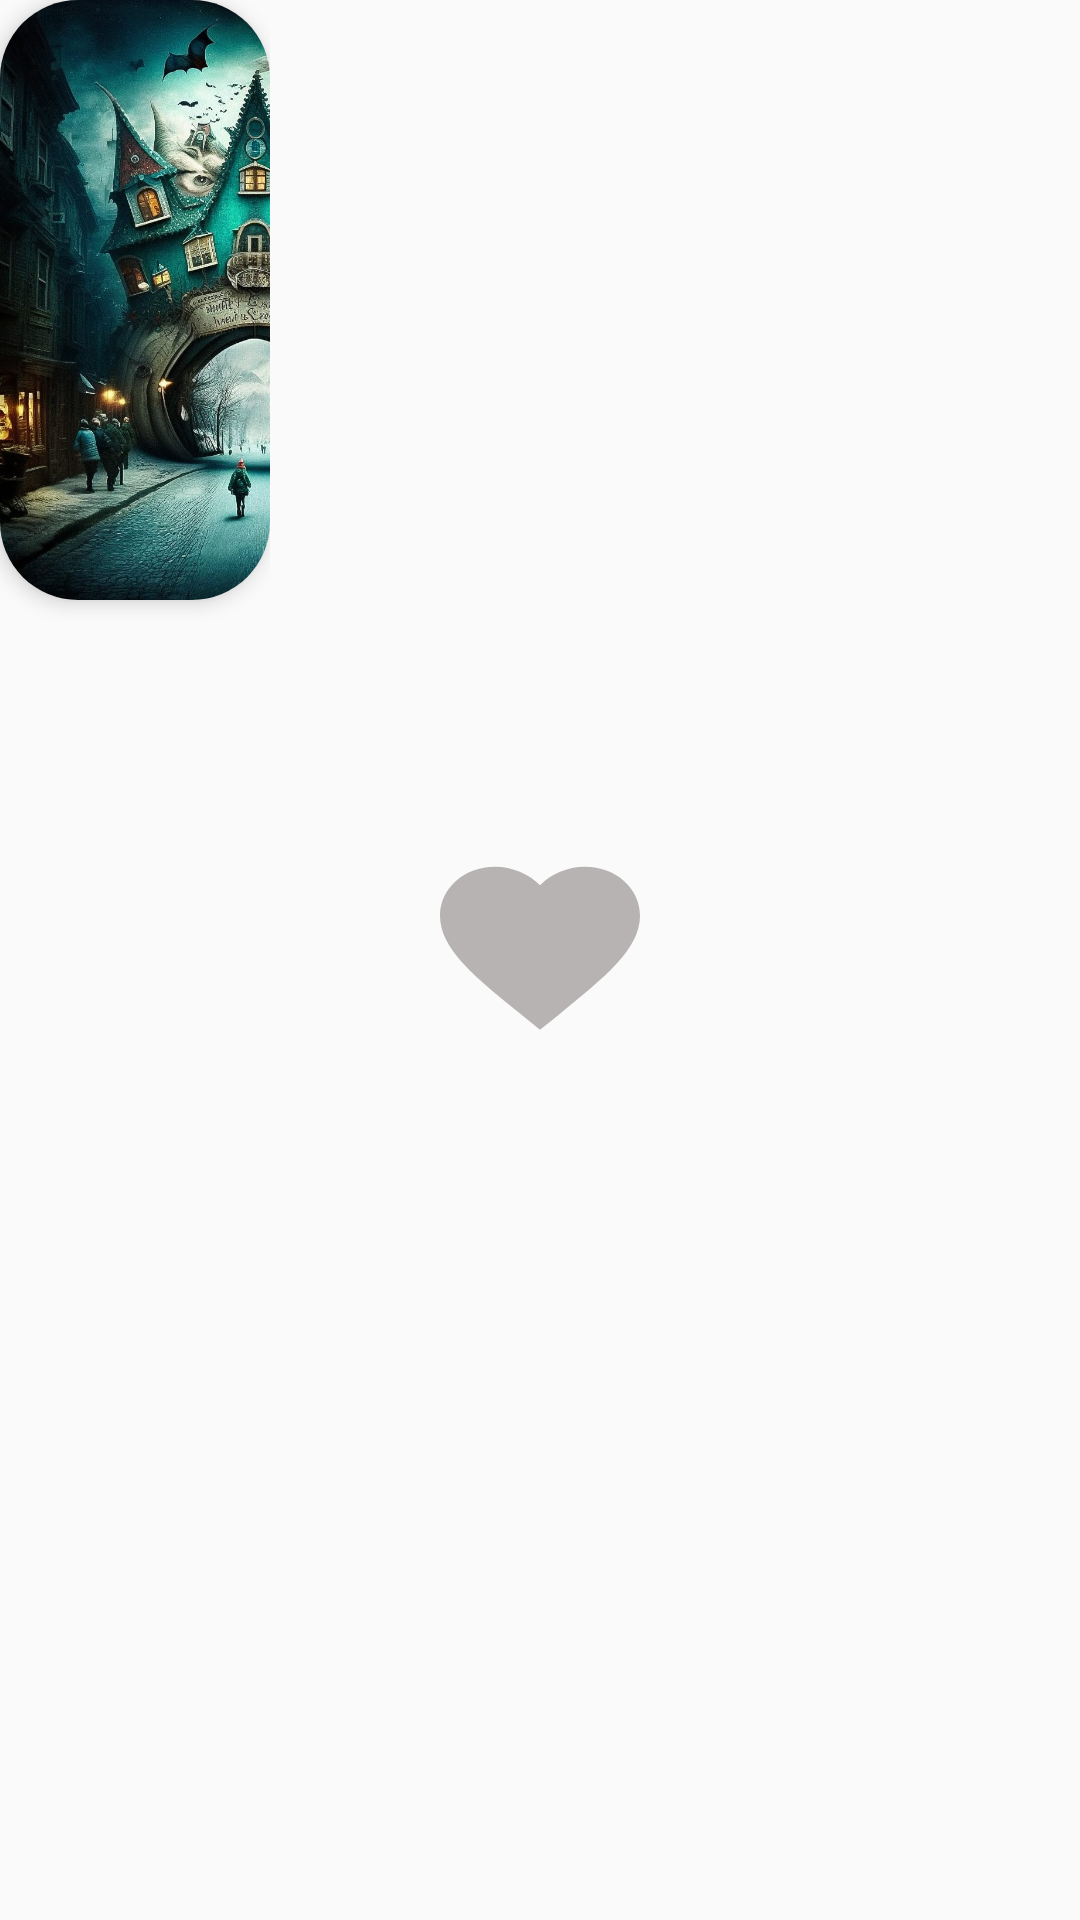

Named icons in this screenshot (1080x1920) and their centers, point (x, y):
favorite: point (540, 948)
